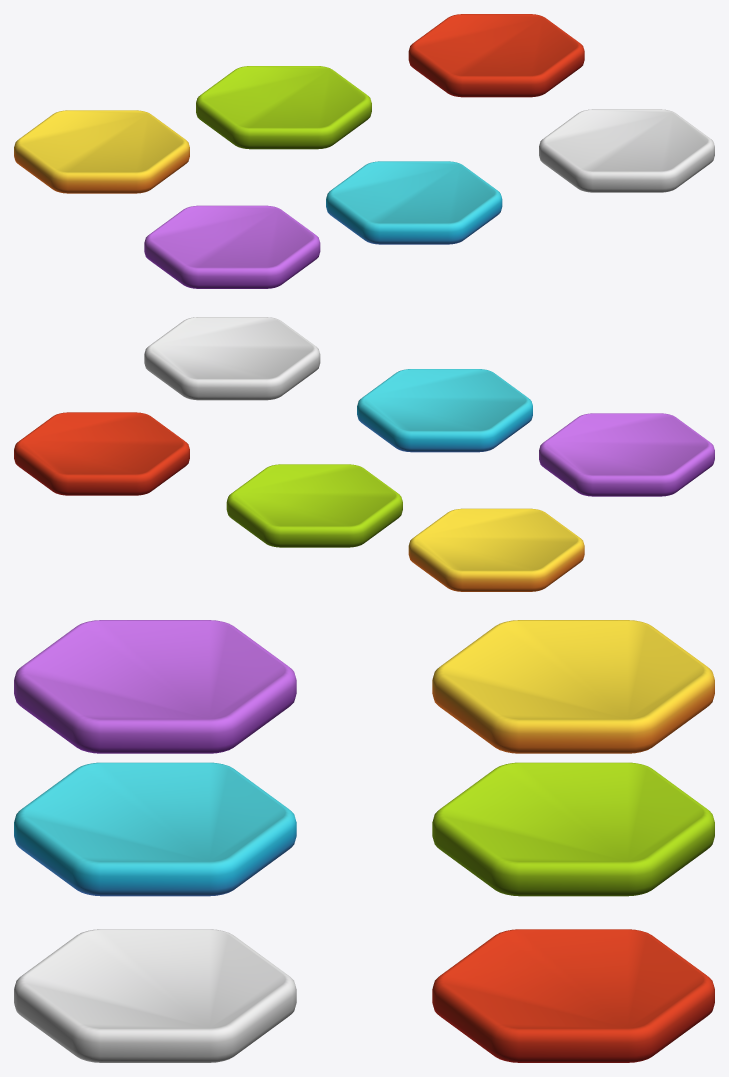
The model's file is hexa normal.fbx.
The picture shows the model from 3 angles, top to bottom: view 1: azimuth 30°, elevation 25°; view 2: azimuth 150°, elevation 25°; view 3: azimuth 270°, elevation 25°; orthographic projection. The views are drawn at different scales.
Visible parts, largest first — view 1: Cylinder.055, Cylinder.051, Cylinder.056, Cylinder.053, Cylinder.054, Cylinder.052; view 2: Cylinder.052, Cylinder.053, Cylinder.054, Cylinder.051, Cylinder.056, Cylinder.055; view 3: Cylinder.052, Cylinder.055, Cylinder.051, Cylinder.053, Cylinder.054, Cylinder.056.
Part boxes in pixels (bbox=[...]): Cylinder.055: bbox=[326, 161, 502, 244]; Cylinder.051: bbox=[408, 14, 584, 97]; Cylinder.056: bbox=[144, 205, 320, 288]; Cylinder.053: bbox=[14, 110, 189, 193]; Cylinder.054: bbox=[539, 109, 714, 192]; Cylinder.052: bbox=[196, 66, 371, 149]; Cylinder.052: bbox=[226, 464, 402, 547]; Cylinder.053: bbox=[408, 508, 584, 591]; Cylinder.054: bbox=[144, 317, 320, 400]; Cylinder.051: bbox=[14, 412, 189, 495]; Cylinder.056: bbox=[539, 413, 714, 496]; Cylinder.055: bbox=[357, 369, 532, 452]; Cylinder.052: bbox=[432, 762, 714, 896]; Cylinder.055: bbox=[14, 762, 296, 896]; Cylinder.051: bbox=[432, 929, 714, 1062]; Cylinder.053: bbox=[432, 620, 714, 753]; Cylinder.054: bbox=[14, 929, 296, 1062]; Cylinder.056: bbox=[14, 620, 296, 753].
Size of the model in its own units: 672 by 25.33 by 478.
1 material, 1 textured.
